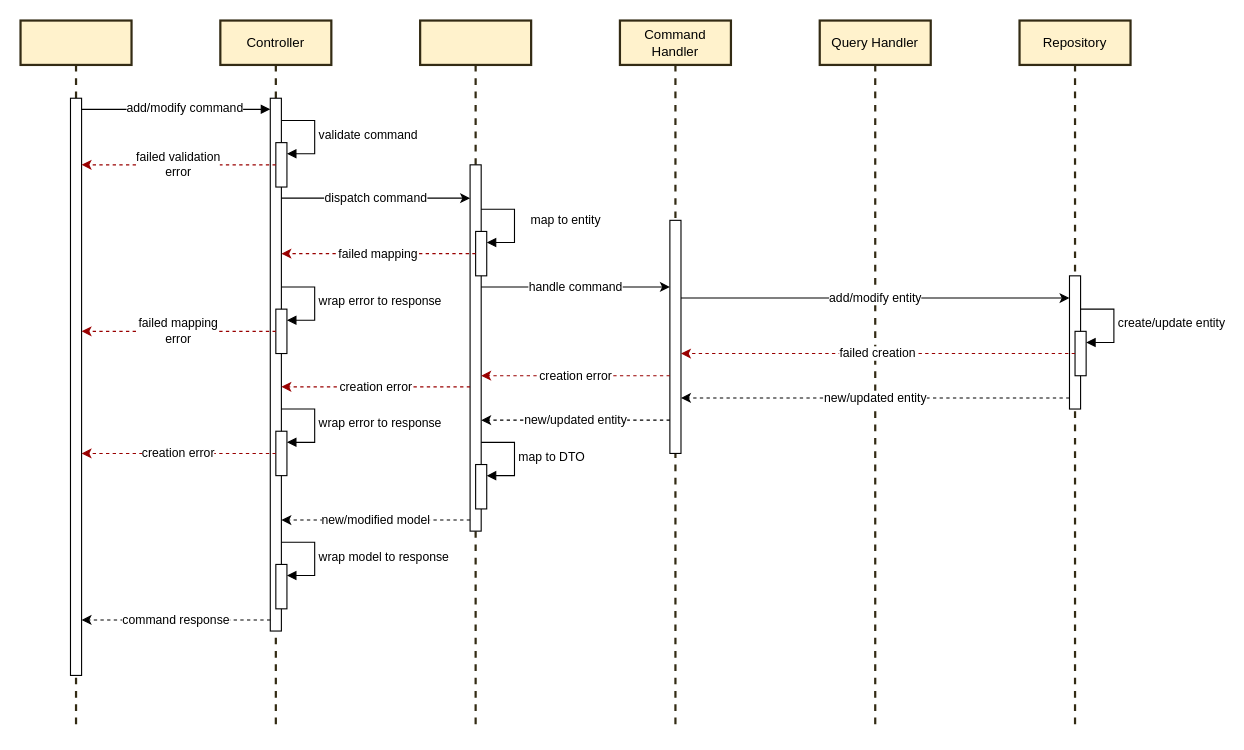
Some shapes in this 1244 by 750 pixel diagram are drawn without their labels. The box of each missing label's shape, as (x1, y1, x2, y2) in pixels:
Owner/Operator: (19, 19, 132, 731)
Service: (418, 19, 532, 731)
